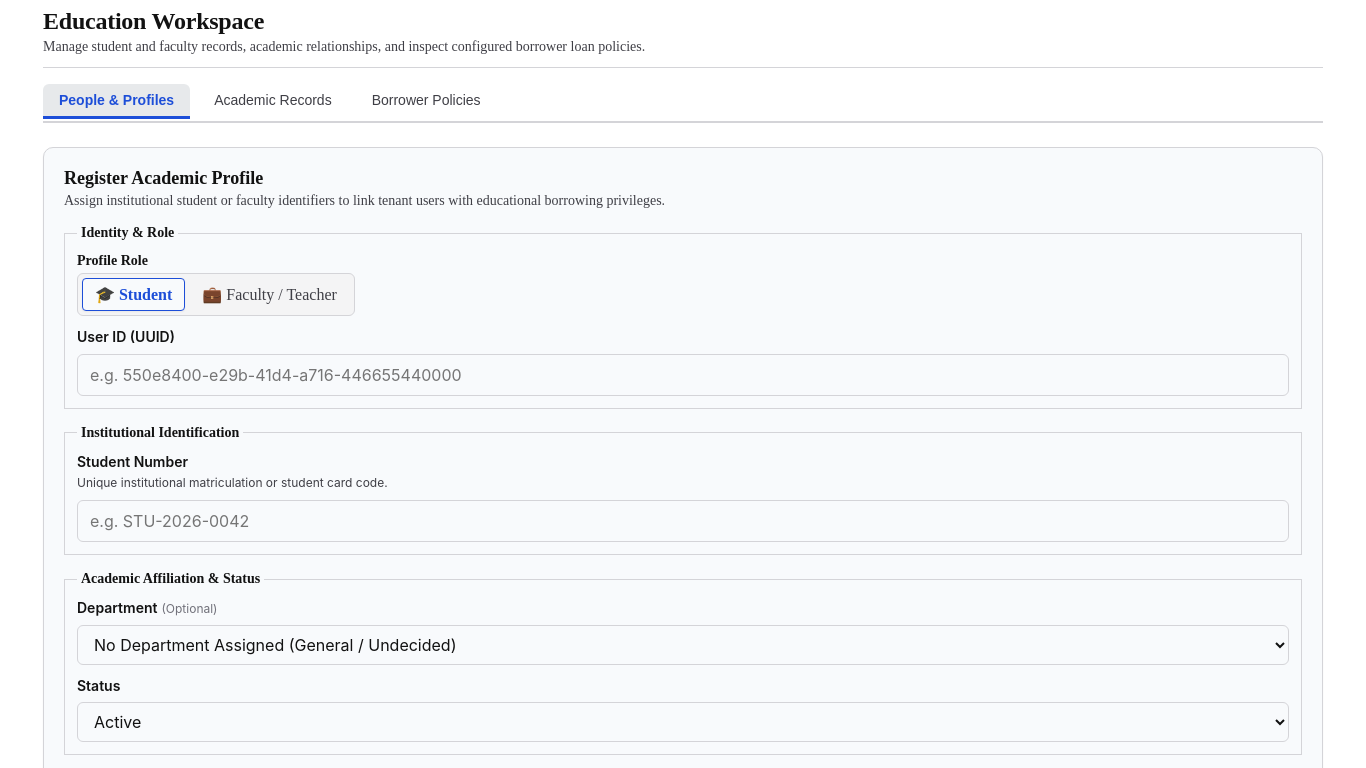
it: Education management and borrower-policy views (FE-009) › Tab Navigation and Workspace Layout › switches tabs and updates panel visibility with keyboard and click support
Click the tab "Academic Records" at (273, 102), box [198,84,348,119]
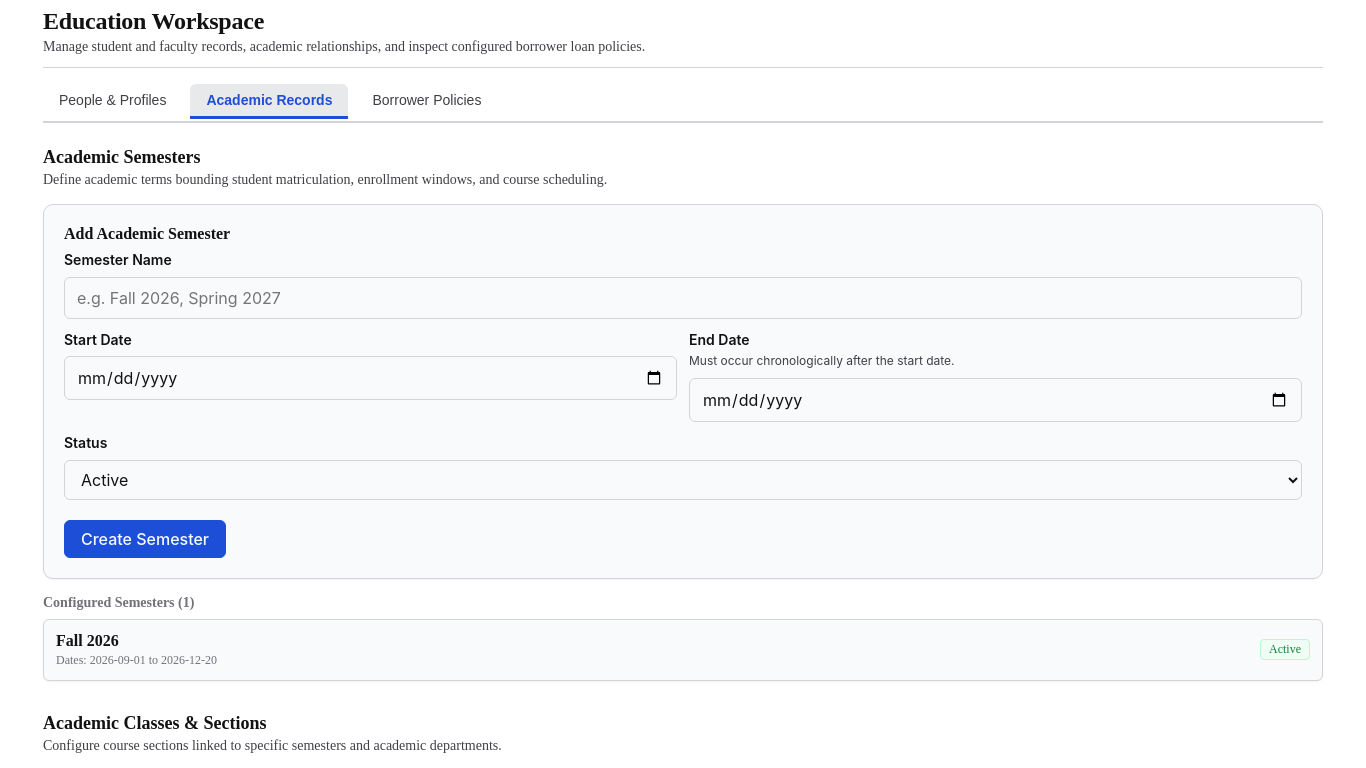
Check: the text "Fall 2026" is shown, box [56,632,119,648]
Click the tab "Borrower Policies" at (427, 102), box [356,84,497,119]
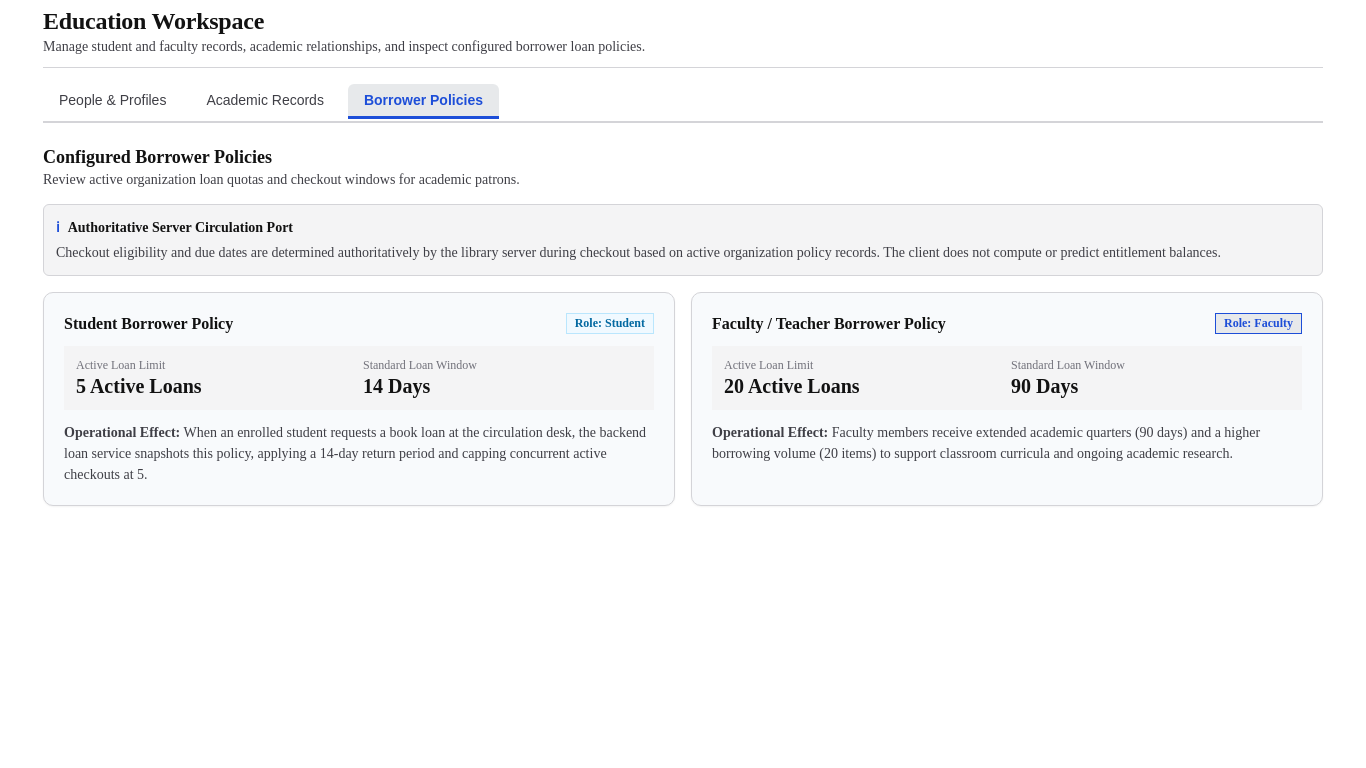
Check: the heading "Configured Borrower Policies" is shown, box [43,147,272,167]
